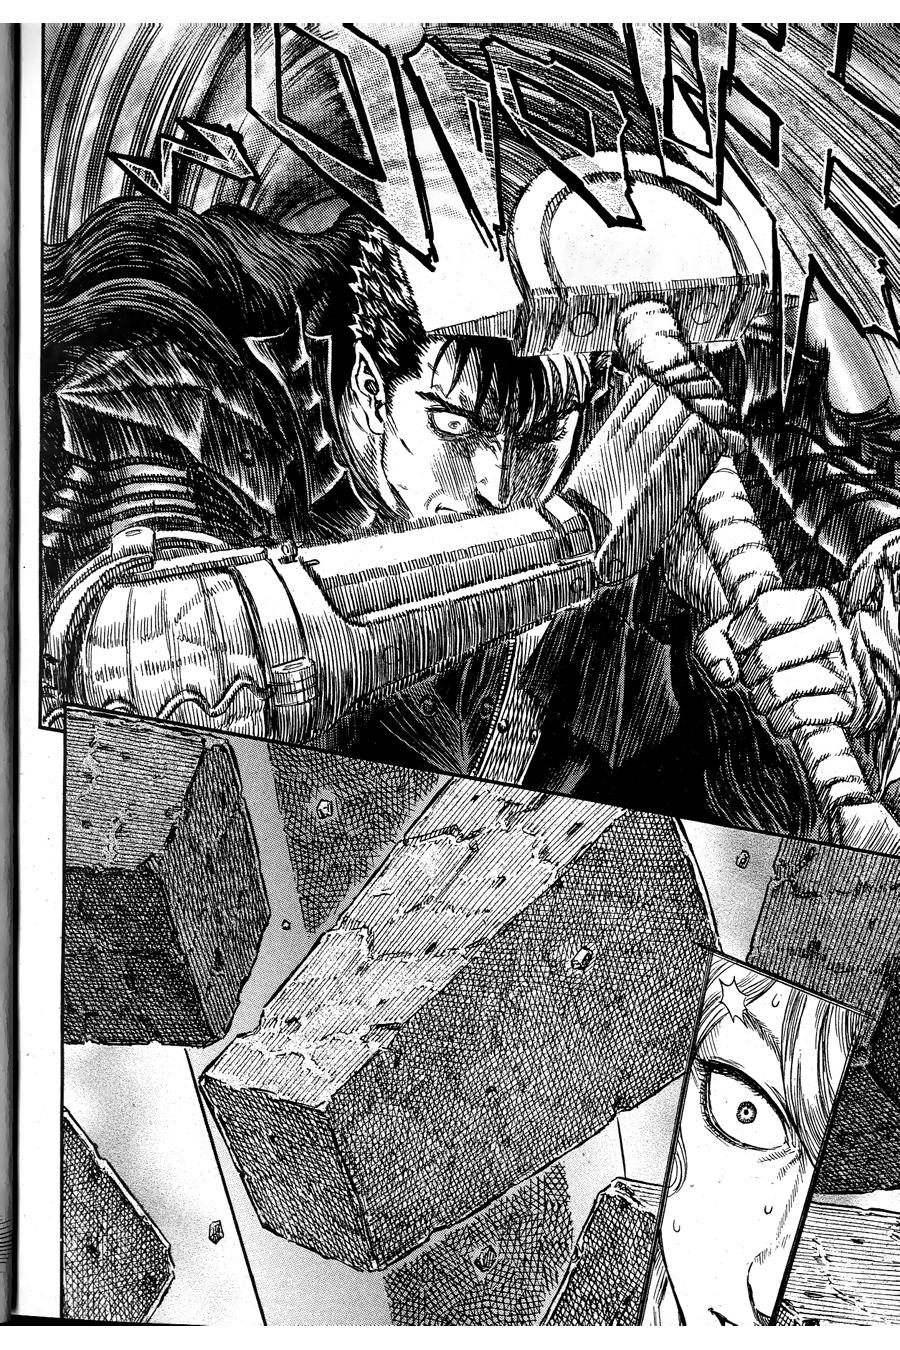Vignetta: (38, 23, 900, 852), (69, 701, 900, 1325)
